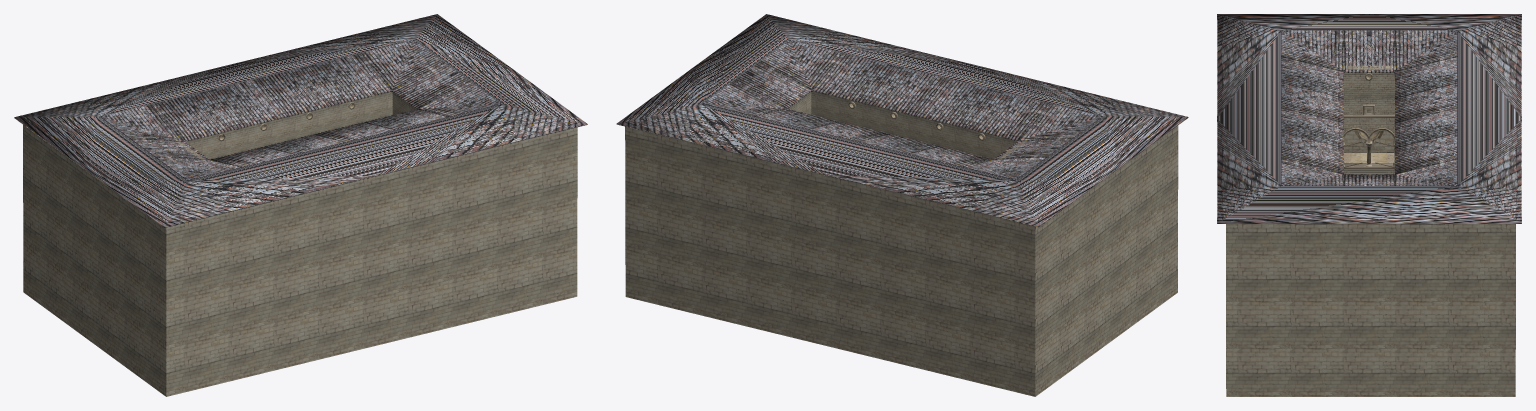
File: sponza.obj
The picture shows the model from 3 angles, left to right: view 1: azimuth 30°, elevation 25°; view 2: azimuth 150°, elevation 25°; view 3: azimuth 270°, elevation 25°; orthographic projection.
Visible parts, largest first — view 1: sponza; view 2: sponza; view 3: sponza.
Boxes of the visible parts, x1,y1,x2,y2 form: sponza: (14,14,587,396); sponza: (616,14,1188,396); sponza: (1217,14,1521,396).
Bounding box in the file's own units: 186 × 77.79 × 114.
Materials: 25 (24 with a texture image).
